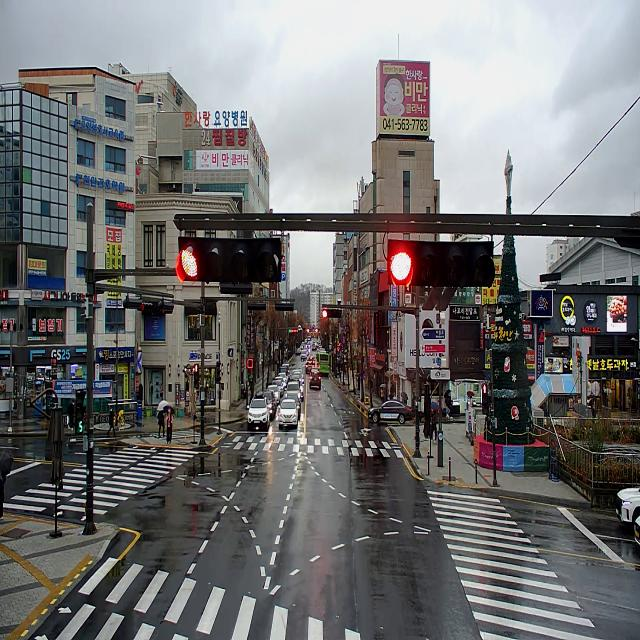Bus: (316, 352, 330, 373)
Car: (368, 400, 412, 424), (247, 391, 270, 426), (278, 400, 300, 424), (264, 391, 276, 419), (286, 393, 300, 416), (285, 381, 301, 401), (309, 369, 321, 390), (268, 384, 280, 404), (294, 379, 304, 401), (272, 380, 282, 396), (275, 376, 285, 392), (282, 363, 291, 379), (279, 367, 288, 381), (278, 373, 287, 385), (306, 361, 314, 374), (300, 350, 306, 360), (309, 356, 315, 366), (296, 348, 301, 355)
